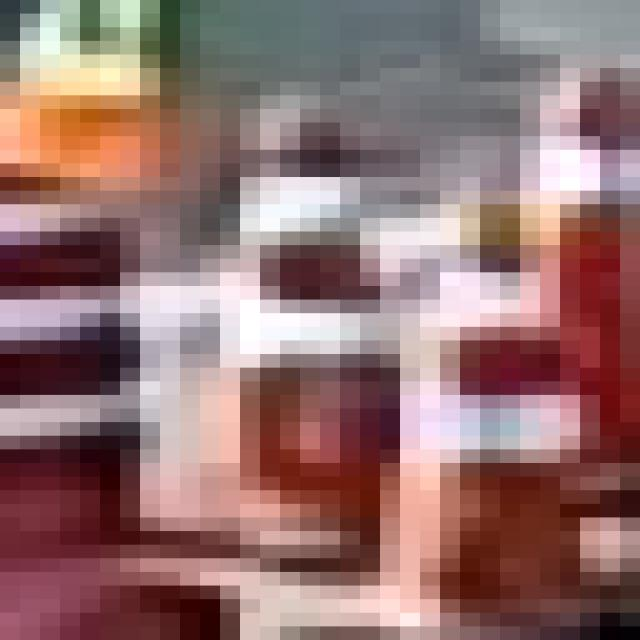small_cone: (196, 108, 470, 598)
